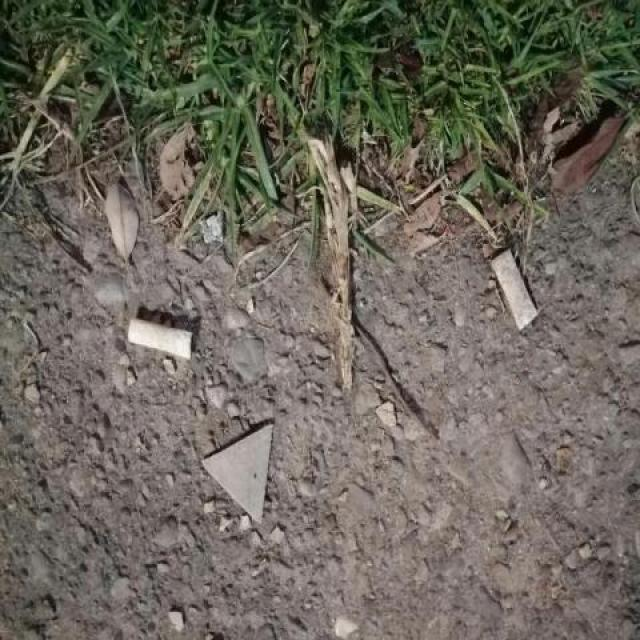non-organic waste: (487, 241, 542, 335), (124, 311, 204, 369)
